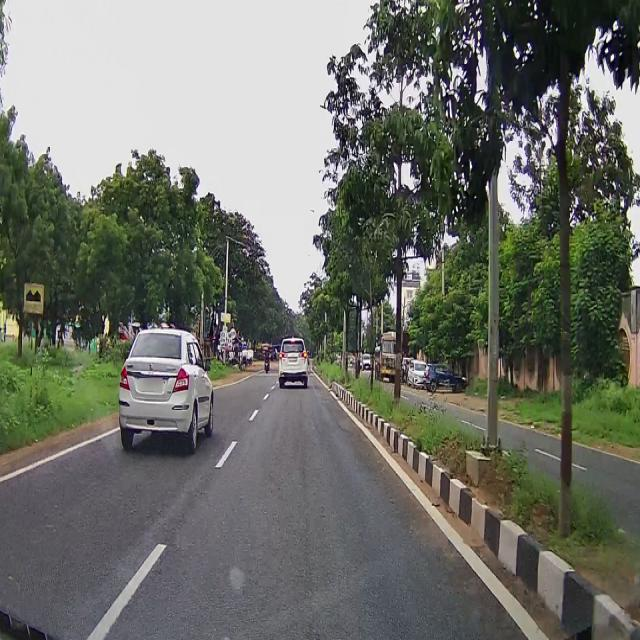car ahead at: (112, 321, 218, 456), (276, 330, 312, 392)
